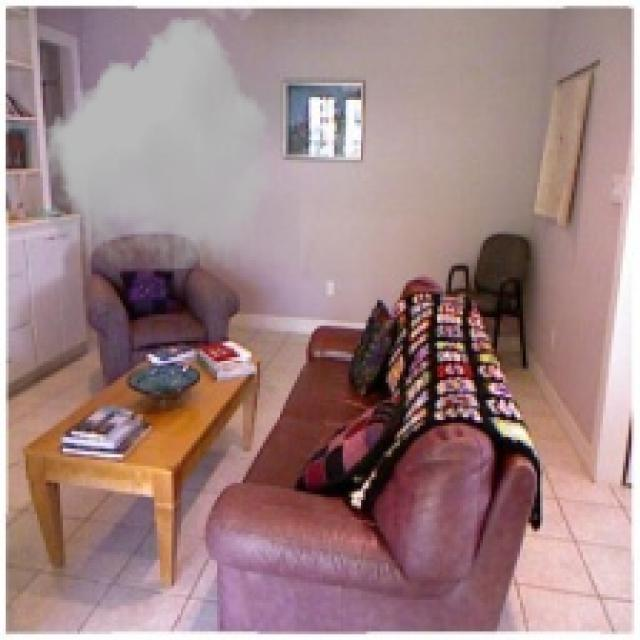smoke: (40, 17, 300, 269)
